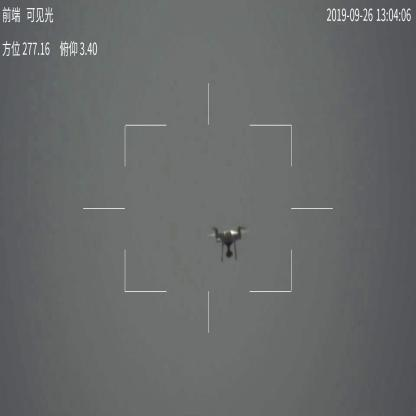uav: (209, 221, 246, 262)
